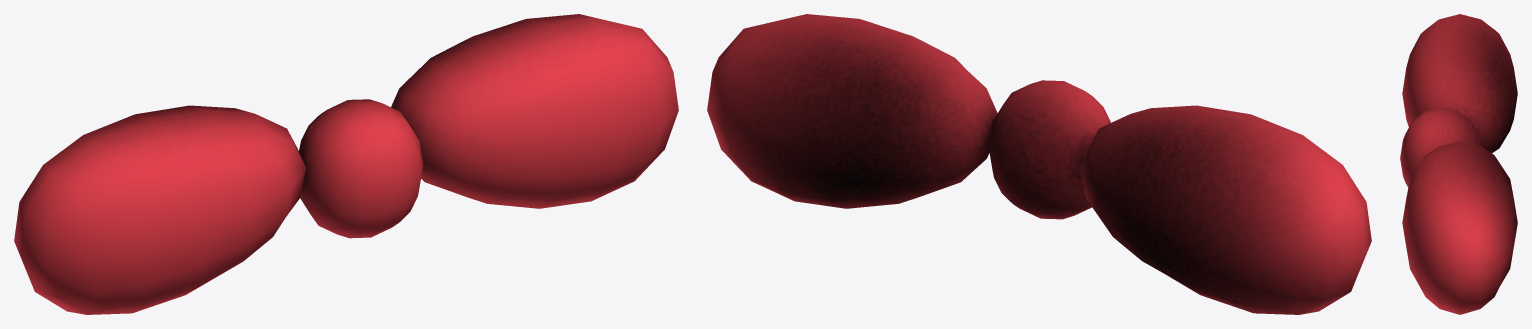
Rendered from bow_tie.glb.
3 renders of one model, left to right at view 1: azimuth 30°, elevation 25°; view 2: azimuth 150°, elevation 25°; view 3: azimuth 270°, elevation 25°, orthographic. The views are drawn at different scales.
Parts seen in each view (by area): view 1: bow_tie; view 2: bow_tie; view 3: bow_tie.
Part boxes in pixels (x1=…): bow_tie: x1=14, y1=14, x2=678, y2=314; bow_tie: x1=707, y1=14, x2=1371, y2=314; bow_tie: x1=1400, y1=14, x2=1517, y2=314.
Bounding box in the file's own units: 0.175 × 0.0463 × 0.0385.
Materials: 1 (1 with a texture image).
